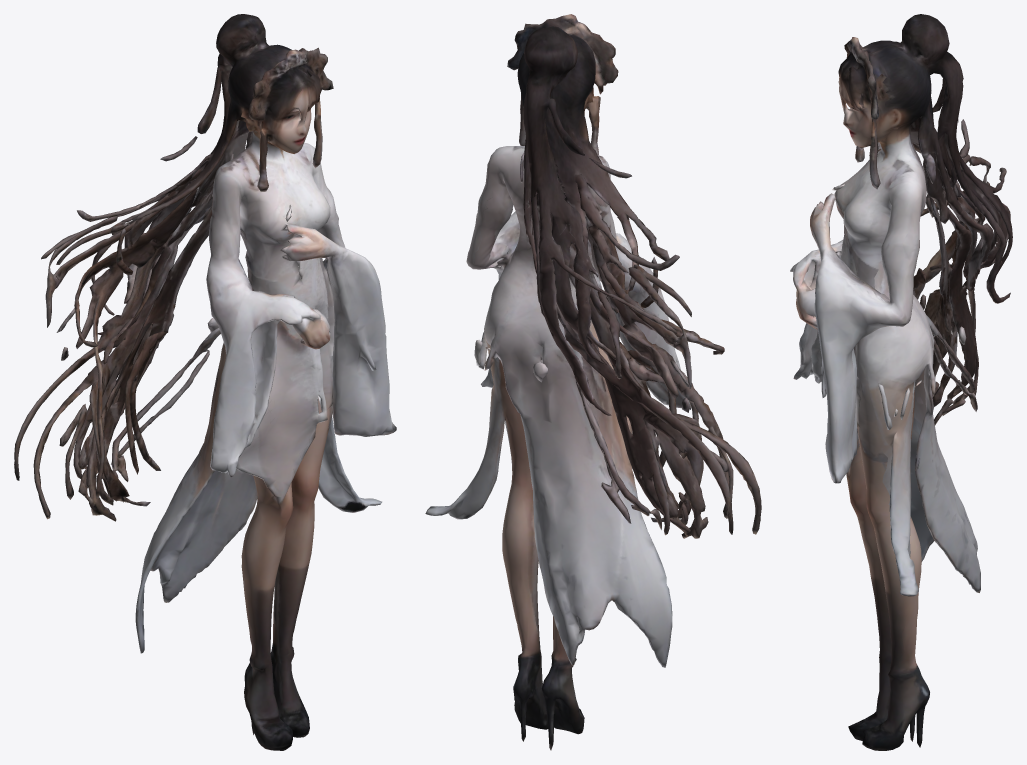
The model's file is ref-a-sport-girl1.glb.
3 renders of one model, left to right at view 1: azimuth 30°, elevation 25°; view 2: azimuth 150°, elevation 25°; view 3: azimuth 270°, elevation 25°, orthographic.
Size of the model in its own units: 0.9916 by 2.01 by 0.5621.
1 material, 1 textured.
